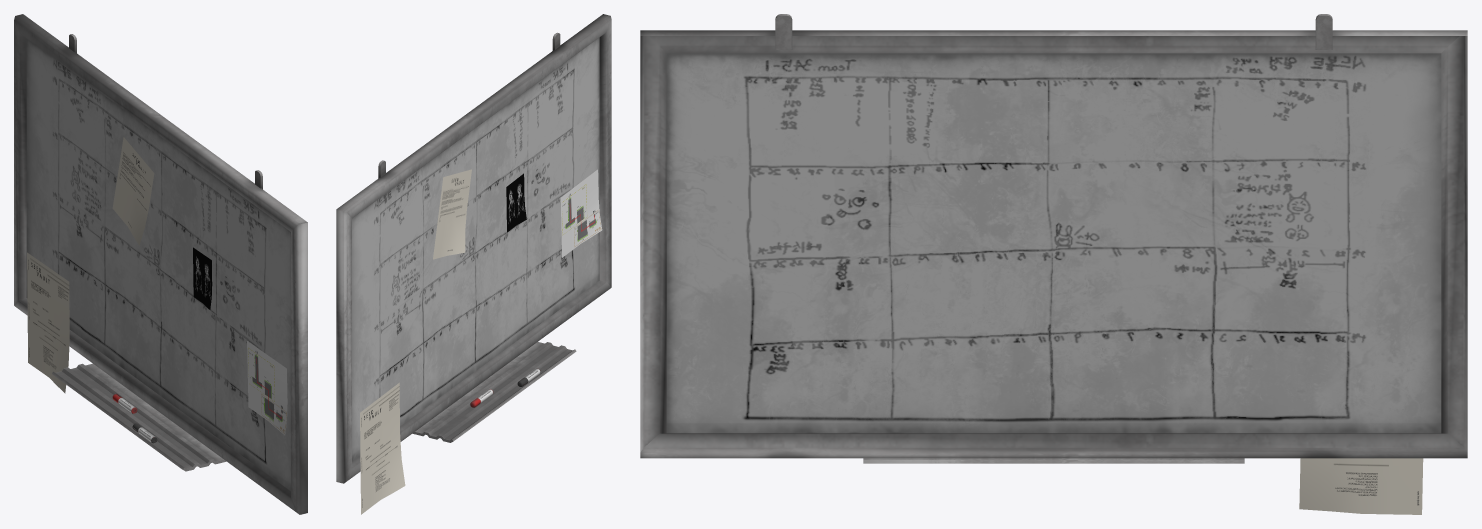
File: BG_CM_BD_Bord_01.fbx
The picture shows the model from 3 angles, left to right: view 1: azimuth 30°, elevation 25°; view 2: azimuth 150°, elevation 25°; view 3: azimuth 270°, elevation 25°; orthographic projection. The views are drawn at different scales.
Visible parts, largest first — view 1: GenRm_ctrl_mid_wb_01_00.002, GenRm_ctrl_mid_wb_01_00, GenRm_ctrl_mid_wb_01_01, GenRm_ctrl_mid_post-it_01.008, GenRm_ctrl_mid_post-it_01.006, GenRm_ctrl_mid_post-it_01.007, GenRm_ctrl_mid_post-it_01.005; view 2: GenRm_ctrl_mid_wb_01_00.002, GenRm_ctrl_mid_wb_01_00, GenRm_ctrl_mid_wb_01_01, GenRm_ctrl_mid_post-it_01.008, GenRm_ctrl_mid_post-it_01.007, GenRm_ctrl_mid_post-it_01.006, GenRm_ctrl_mid_post-it_01.005; view 3: GenRm_ctrl_mid_wb_01_00.002, GenRm_ctrl_mid_wb_01_00, GenRm_ctrl_mid_post-it_01.008, GenRm_ctrl_mid_wb_01_01, GenRm_ctrl_mid_wb_01_00.001.
Boxes of the visible parts, x1=… form: GenRm_ctrl_mid_wb_01_00.002: x1=26, y1=39, x2=290, y2=490; GenRm_ctrl_mid_wb_01_00: x1=14, y1=14, x2=307, y2=514; GenRm_ctrl_mid_wb_01_01: x1=52, y1=363, x2=226, y2=471; GenRm_ctrl_mid_post-it_01.008: x1=27, y1=252, x2=69, y2=393; GenRm_ctrl_mid_post-it_01.006: x1=247, y1=341, x2=287, y2=435; GenRm_ctrl_mid_post-it_01.007: x1=112, y1=137, x2=154, y2=245; GenRm_ctrl_mid_post-it_01.005: x1=193, y1=247, x2=212, y2=309; GenRm_ctrl_mid_wb_01_00.002: x1=352, y1=37, x2=599, y2=461; GenRm_ctrl_mid_wb_01_00: x1=336, y1=14, x2=611, y2=483; GenRm_ctrl_mid_wb_01_01: x1=412, y1=342, x2=576, y2=442; GenRm_ctrl_mid_post-it_01.008: x1=360, y1=382, x2=405, y2=514; GenRm_ctrl_mid_post-it_01.007: x1=433, y1=169, x2=471, y2=259; GenRm_ctrl_mid_post-it_01.006: x1=560, y1=169, x2=602, y2=257; GenRm_ctrl_mid_post-it_01.005: x1=506, y1=173, x2=526, y2=232; GenRm_ctrl_mid_wb_01_00.002: x1=666, y1=53, x2=1441, y2=433; GenRm_ctrl_mid_wb_01_00: x1=640, y1=30, x2=1467, y2=458; GenRm_ctrl_mid_post-it_01.008: x1=1299, y1=458, x2=1423, y2=514; GenRm_ctrl_mid_wb_01_01: x1=863, y1=458, x2=1244, y2=463; GenRm_ctrl_mid_wb_01_00.001: x1=775, y1=14, x2=1332, y2=49.
Bounding box in the file's own units: 24.19 × 162 × 240.
